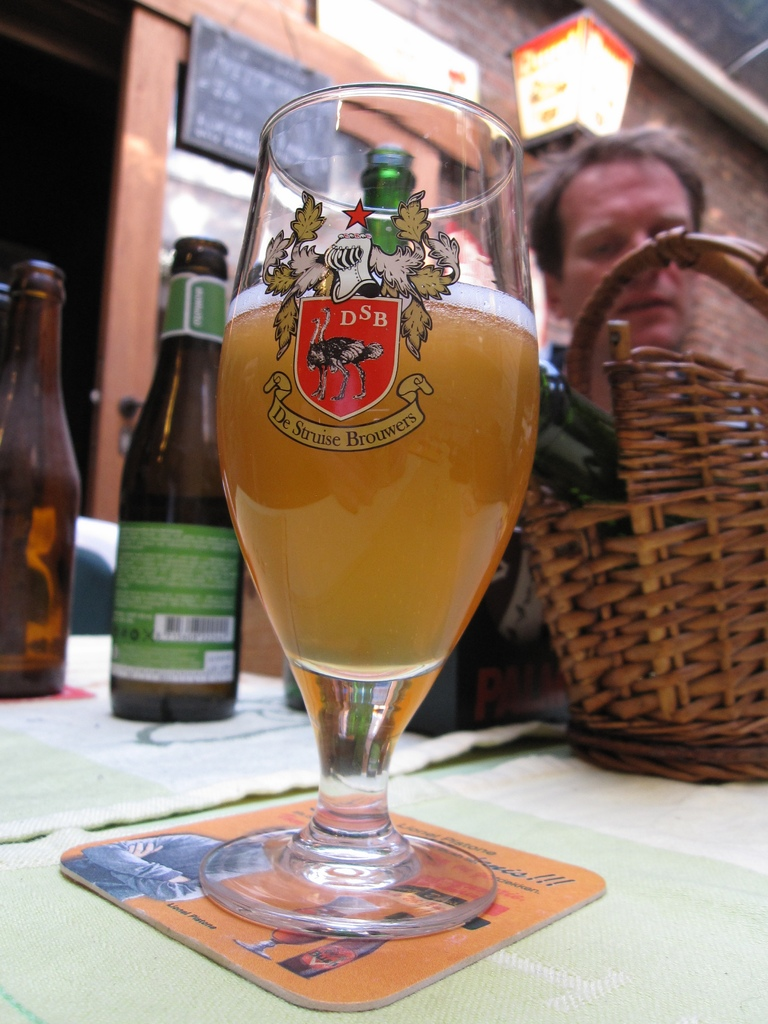Beer: (211, 294, 536, 679), (104, 238, 238, 725), (0, 259, 80, 698)
